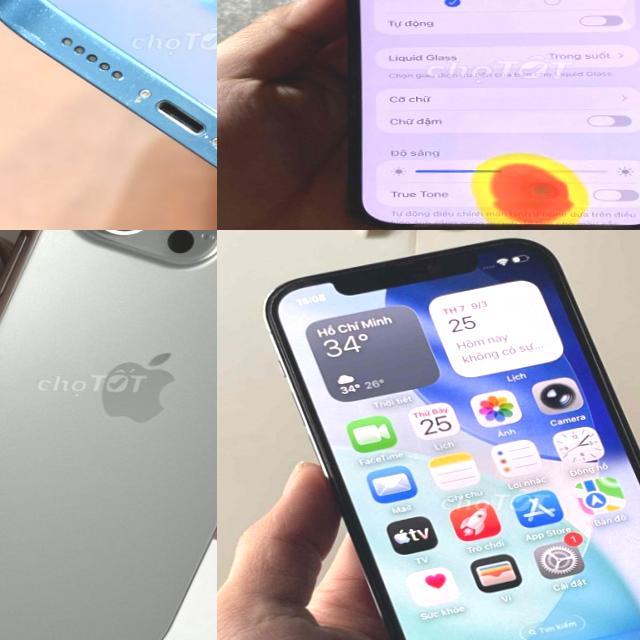gen_12_13: (258, 230, 640, 640), (333, 0, 640, 230), (0, 0, 217, 230)
gen_15: (0, 230, 217, 640)
scratch: (0, 0, 217, 230)
screen_defect: (462, 126, 587, 230)
